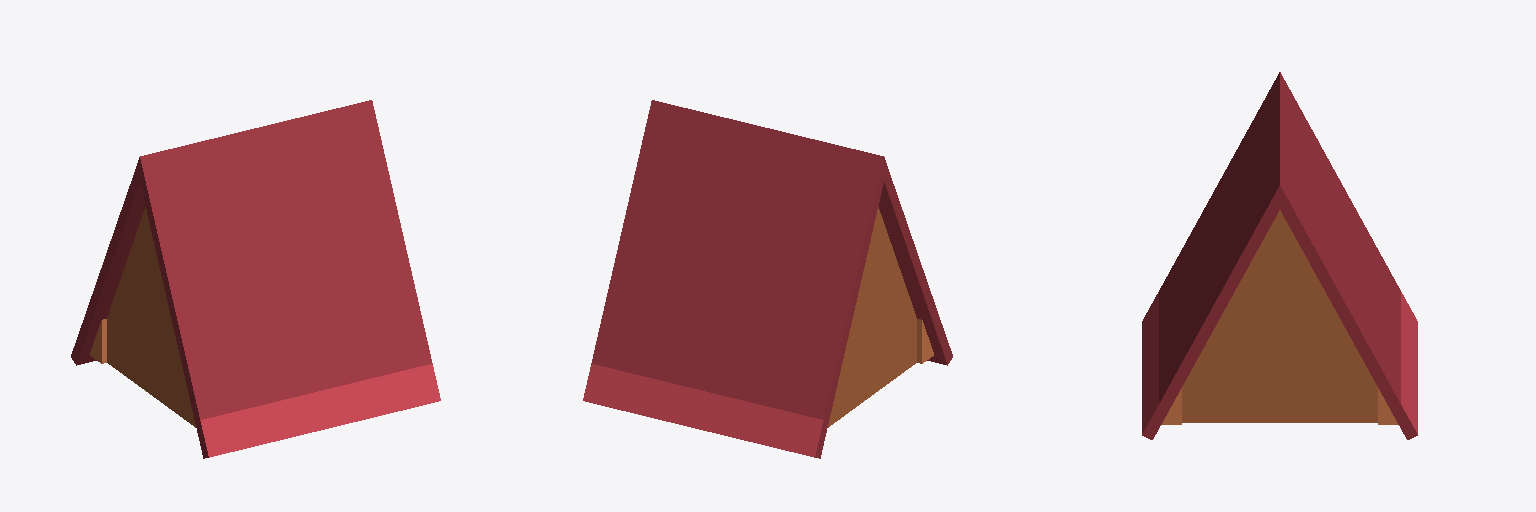
File: roofHighGable.obj
3 renders of one model, left to right at view 1: azimuth 30°, elevation 25°; view 2: azimuth 150°, elevation 25°; view 3: azimuth 270°, elevation 25°, orthographic.
Visible parts, largest first — view 1: roofHighGable; view 2: roofHighGable; view 3: roofHighGable.
Boxes of the visible parts, <box> form: roofHighGable: <box>71,100,440,458</box>; roofHighGable: <box>583,100,952,458</box>; roofHighGable: <box>1142,72,1417,439</box>.
Bounding box in the file's own units: 1.1 × 1.16 × 1.13.